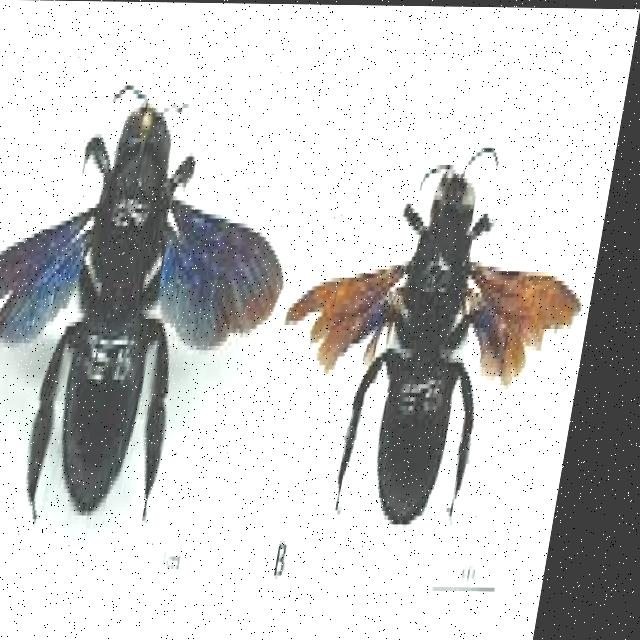Xylocopa: (0, 50, 318, 567), (287, 106, 604, 558)
